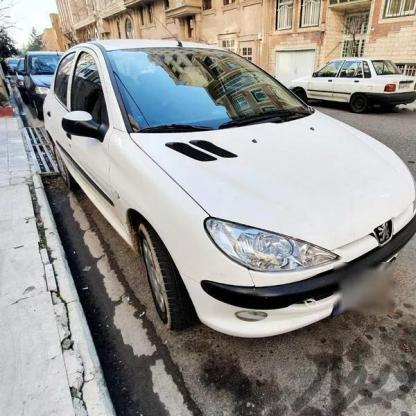Car: (40, 34, 414, 330), (287, 52, 416, 114), (19, 47, 79, 113)
